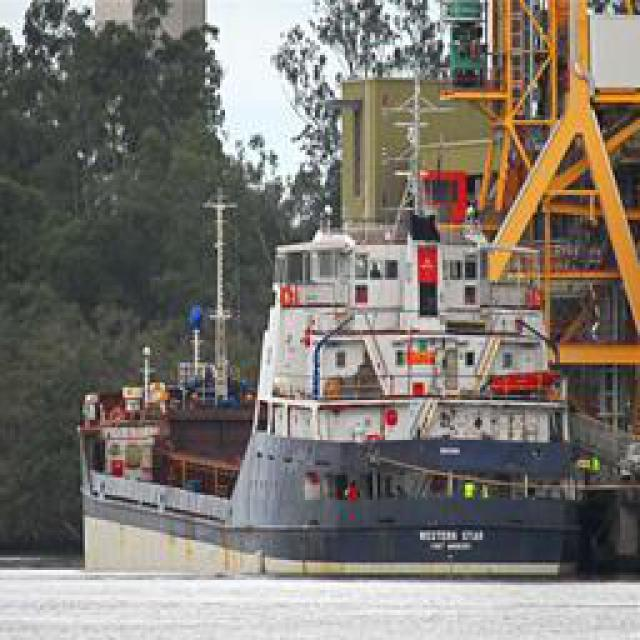Ship: (185, 49, 633, 569)
